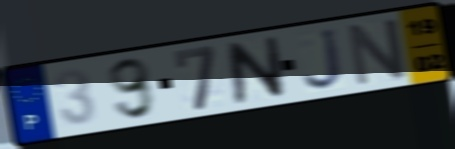3: (52, 66, 98, 128)
7: (170, 42, 220, 114)
9: (105, 55, 158, 122)
J: (301, 25, 347, 93)
N: (345, 15, 410, 90), (224, 34, 288, 106)
